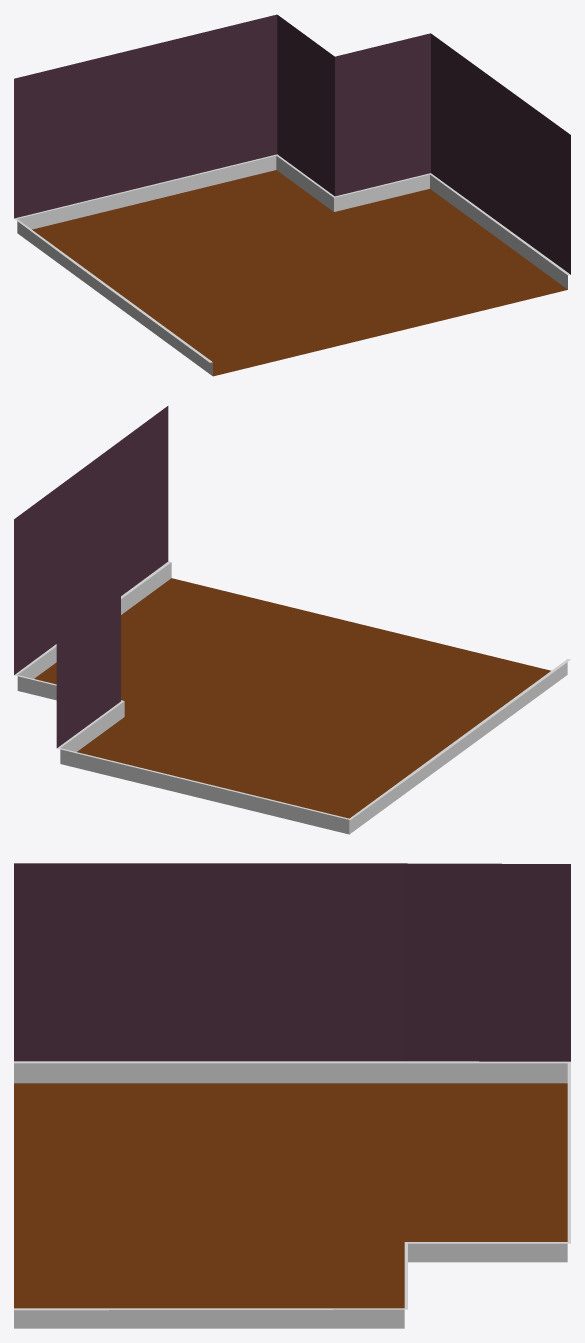
File: FloorWalls.fbx
3 views of the same model, one above another, from view 1: azimuth 30°, elevation 25°; view 2: azimuth 150°, elevation 25°; view 3: azimuth 270°, elevation 25° (orthographic). The views are drawn at different scales.
Parts seen in each view (by area): view 1: FloorWalls; view 2: FloorWalls; view 3: FloorWalls.
Boxes of the visible parts, bbox=[...] form: FloorWalls: bbox=[14, 14, 570, 376]; FloorWalls: bbox=[14, 406, 570, 834]; FloorWalls: bbox=[14, 863, 570, 1328].
Size of the model in its own units: 959 by 391 by 906.
